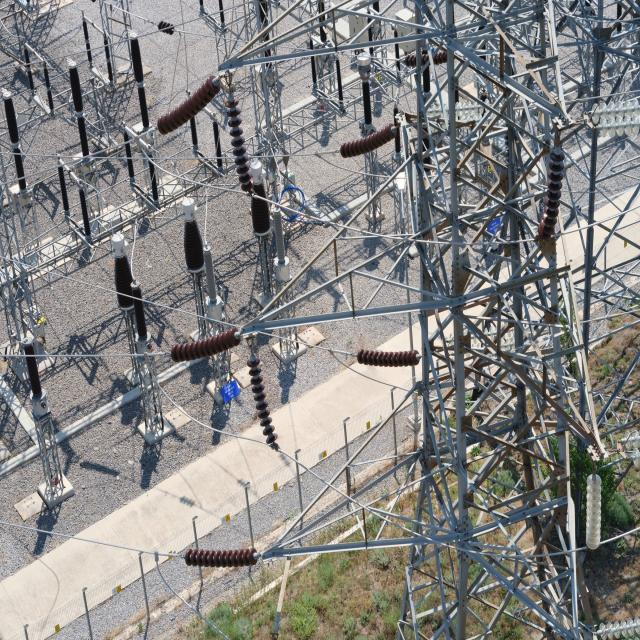direk: (226, 10, 635, 640)
